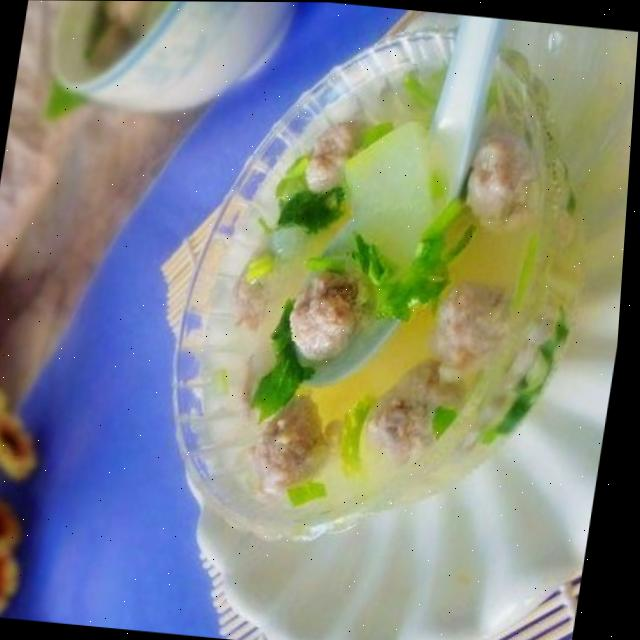汤锅炖物: (180, 20, 597, 525)
